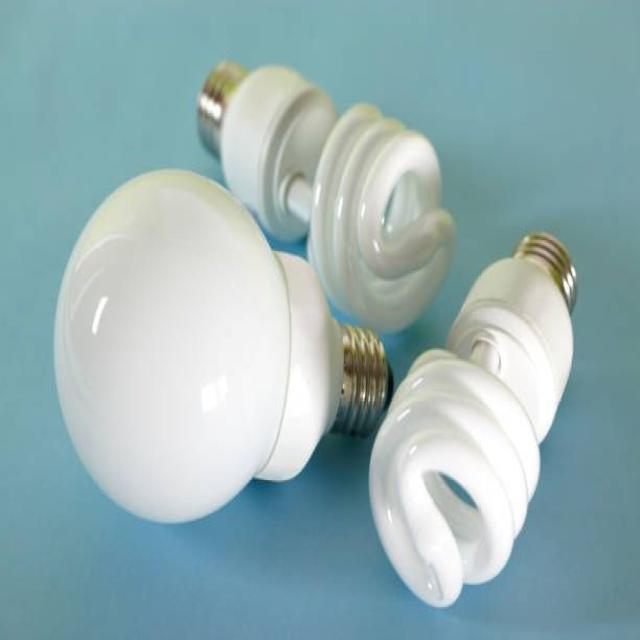electronic: (51, 58, 578, 609), (51, 165, 292, 524), (367, 229, 577, 609), (194, 58, 456, 334), (305, 101, 456, 334), (253, 248, 391, 483), (195, 58, 336, 243)
